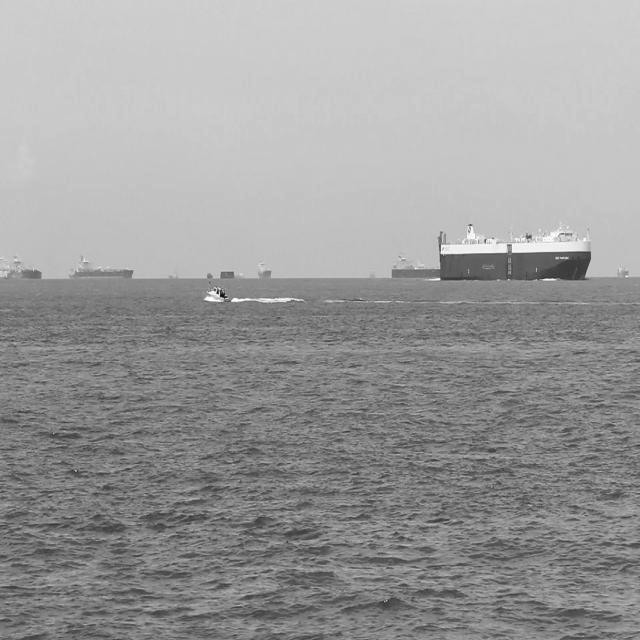ship: (436, 221, 594, 287), (61, 249, 136, 281), (387, 255, 440, 281), (0, 254, 47, 283), (202, 280, 234, 306), (252, 258, 272, 284), (612, 258, 630, 284)
